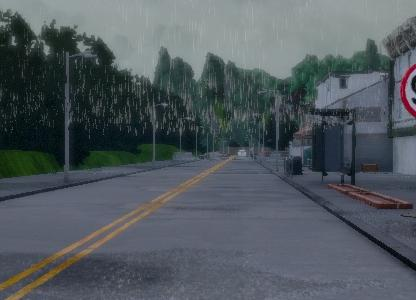Speed_90: (401, 57, 416, 124)
